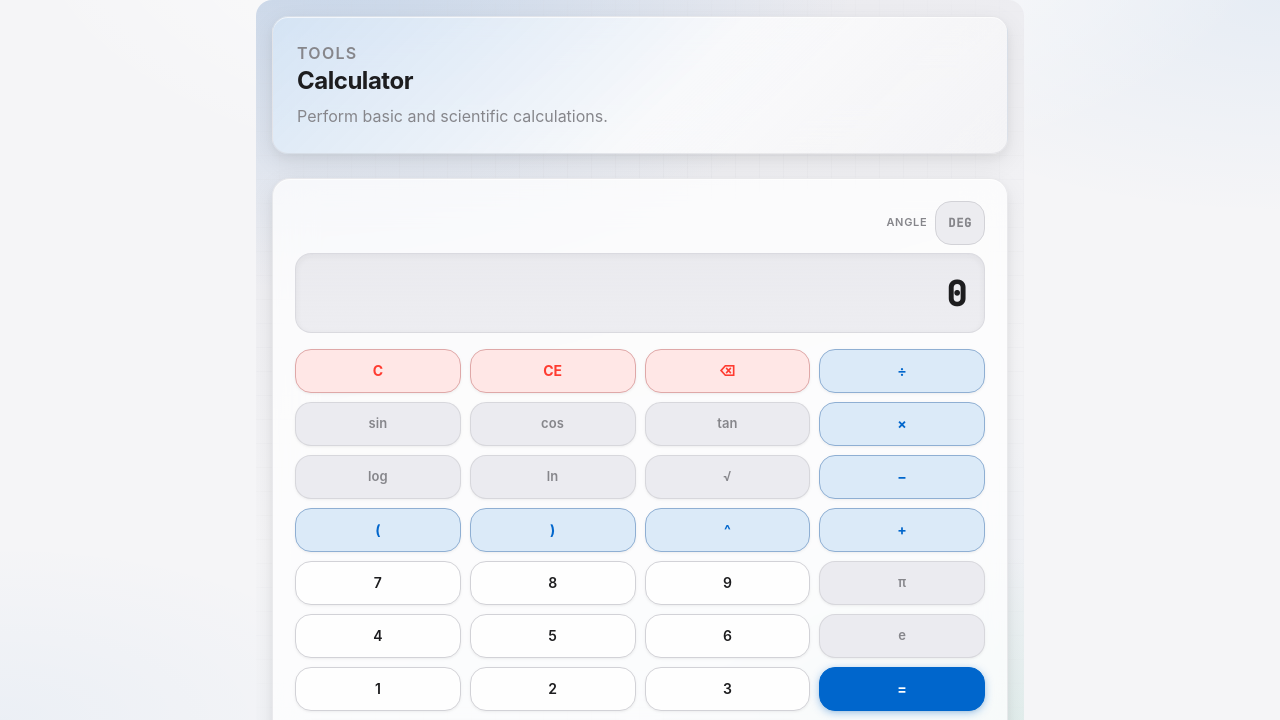
Scenario: CalculatorComponent › toggles angle mode between DEG and RAD
Click the button with class "calc-angle-toggle" at [960, 223], box [935,201,985,245]
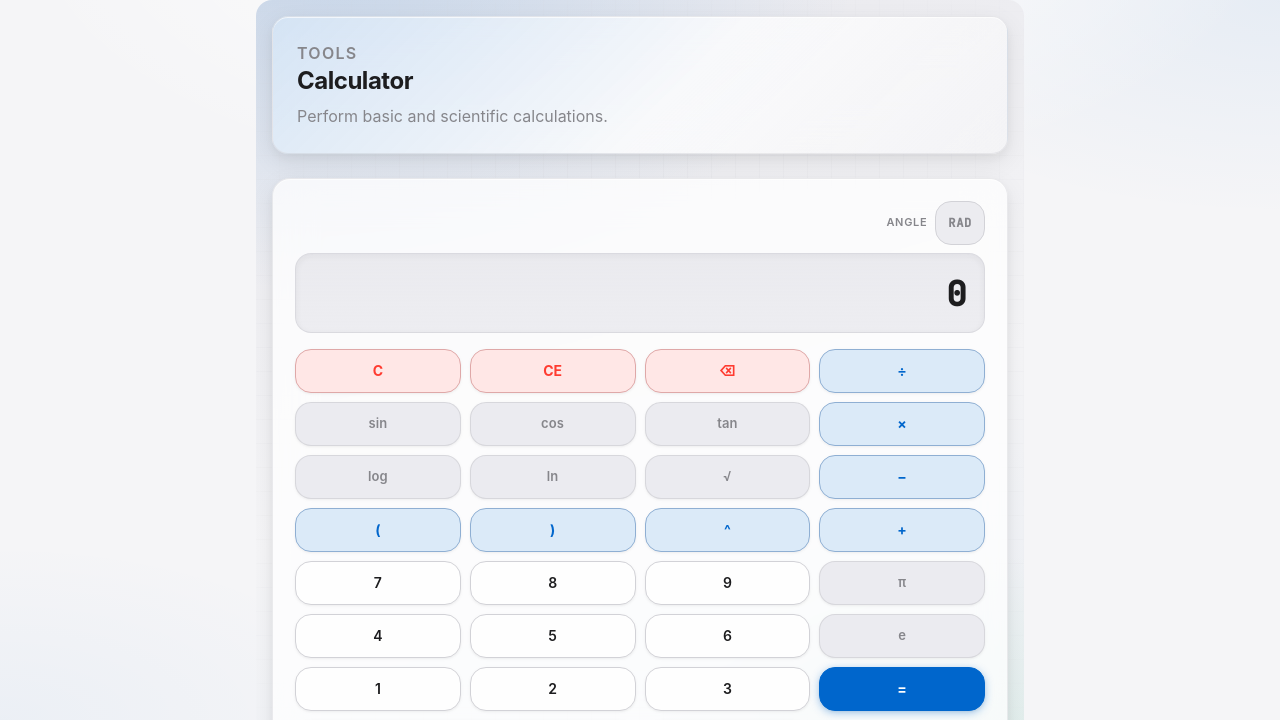
Result: the button with class "calc-angle-toggle" reads "RAD"
Click the button with class "calc-angle-toggle" at [960, 223], box [935,201,985,245]
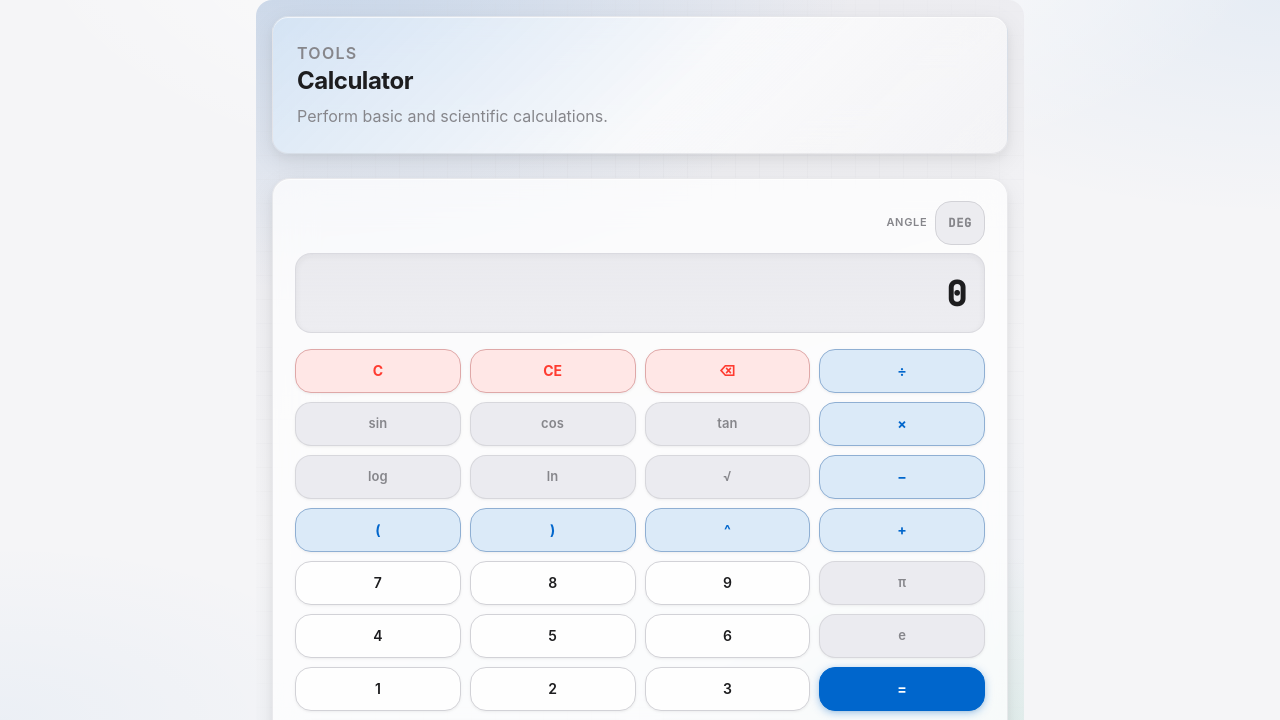
Result: the button with class "calc-angle-toggle" reads "DEG" at [935,201,985,245]
